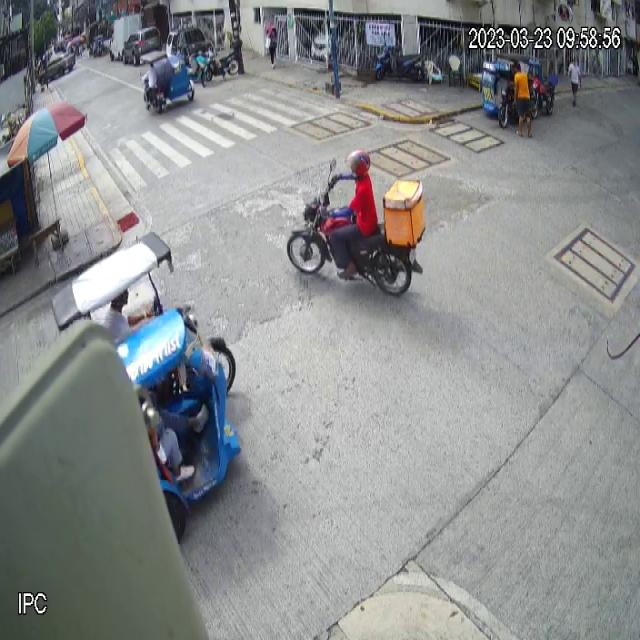Motorcycle: (287, 156, 426, 298)
Tricycle: (49, 230, 242, 546), (138, 49, 196, 114), (480, 53, 528, 127)
